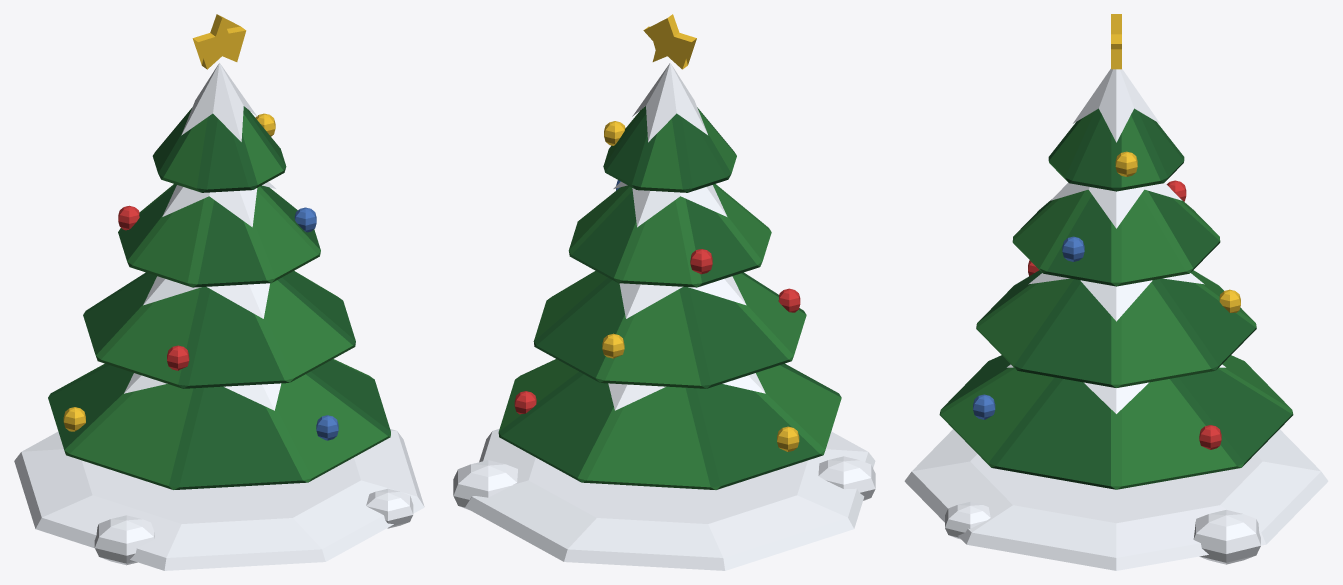
Rendered from snowy-fir-1x1.glb.
The picture shows the model from 3 angles, left to right: view 1: azimuth 30°, elevation 25°; view 2: azimuth 150°, elevation 25°; view 3: azimuth 270°, elevation 25°; orthographic projection.
Visible parts, largest first — view 1: snowy-fir-1x1; view 2: snowy-fir-1x1; view 3: snowy-fir-1x1.
Part boxes in pixels (x1,y1,x2,y2): snowy-fir-1x1: (14,14,424,570); snowy-fir-1x1: (453,14,875,570); snowy-fir-1x1: (904,14,1328,570).
Bounding box in the file's own units: 0.9 × 1.13 × 0.9.
1 material, 1 textured.
